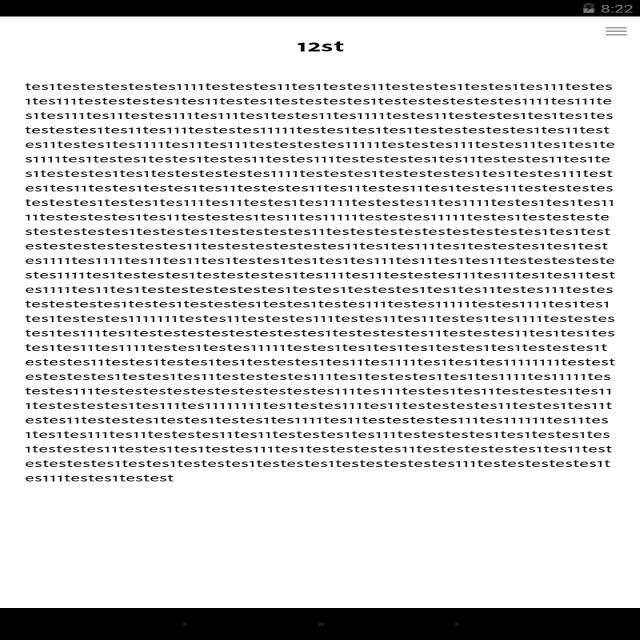ImageButton: (603, 19, 635, 41)
TextView: (19, 76, 615, 480), (290, 34, 360, 59)
